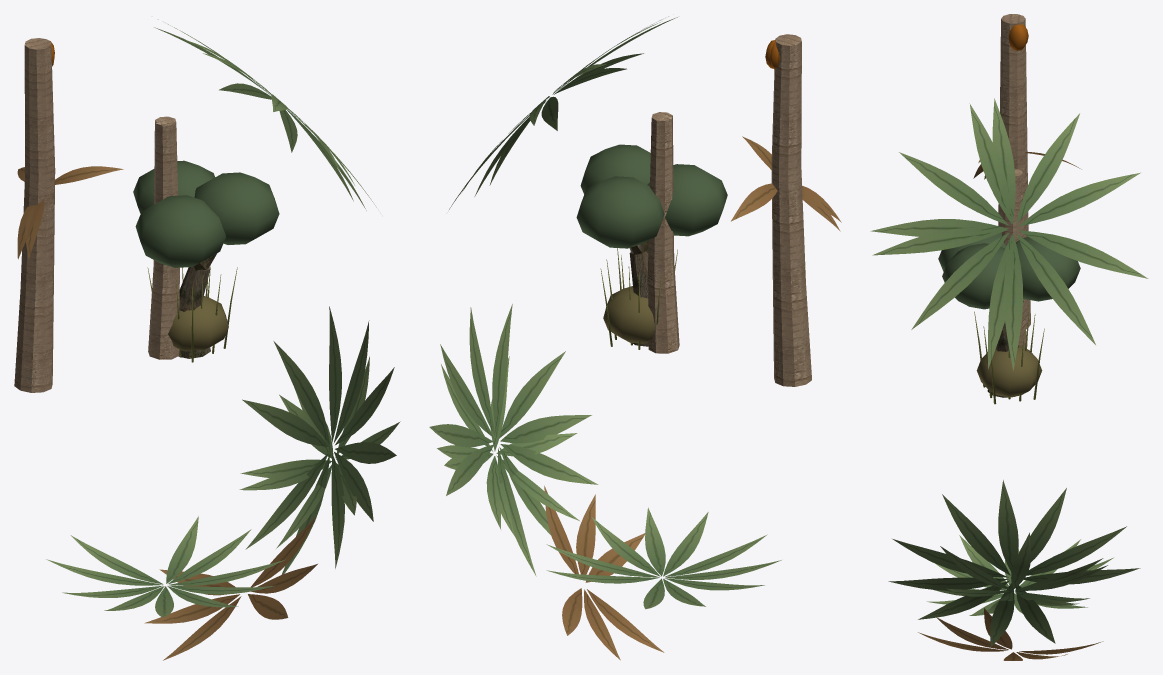
File: trees_mudbrick.glb
The picture shows the model from 3 angles, left to right: view 1: azimuth 30°, elevation 25°; view 2: azimuth 150°, elevation 25°; view 3: azimuth 270°, elevation 25°; orthographic projection. The views are drawn at different scales.
Parts seen in each view (by area): view 1: palm_date_tall_mesh, palm_date_medium_mesh, olive_tree_mb_mesh, bush_desert_mb_mesh, reed_oasis_mesh; view 2: palm_date_tall_mesh, palm_date_medium_mesh, olive_tree_mb_mesh, bush_desert_mb_mesh, reed_oasis_mesh; view 3: palm_date_tall_mesh, palm_date_medium_mesh, olive_tree_mb_mesh, bush_desert_mb_mesh, reed_oasis_mesh.
Boxes of the visible parts, <box> form: palm_date_tall_mesh: <box>14,19,396,660</box>; palm_date_medium_mesh: <box>17,116,400,617</box>; olive_tree_mb_mesh: <box>133,160,279,358</box>; bush_desert_mb_mesh: <box>168,296,228,351</box>; reed_oasis_mesh: <box>147,265,237,362</box>; palm_date_tall_mesh: <box>429,16,811,660</box>; palm_date_medium_mesh: <box>437,112,841,609</box>; olive_tree_mb_mesh: <box>576,144,727,346</box>; bush_desert_mb_mesh: <box>603,286,655,343</box>; reed_oasis_mesh: <box>600,248,677,349</box>; palm_date_tall_mesh: <box>870,14,1148,660</box>; palm_date_medium_mesh: <box>905,152,1113,615</box>; olive_tree_mb_mesh: <box>938,232,1080,397</box>; bush_desert_mb_mesh: <box>976,345,1042,397</box>; reed_oasis_mesh: <box>974,305,1044,404</box>.
Bounding box in the file's own units: 10.21 × 16.75 × 7.24.
3 materials, 3 textured.
